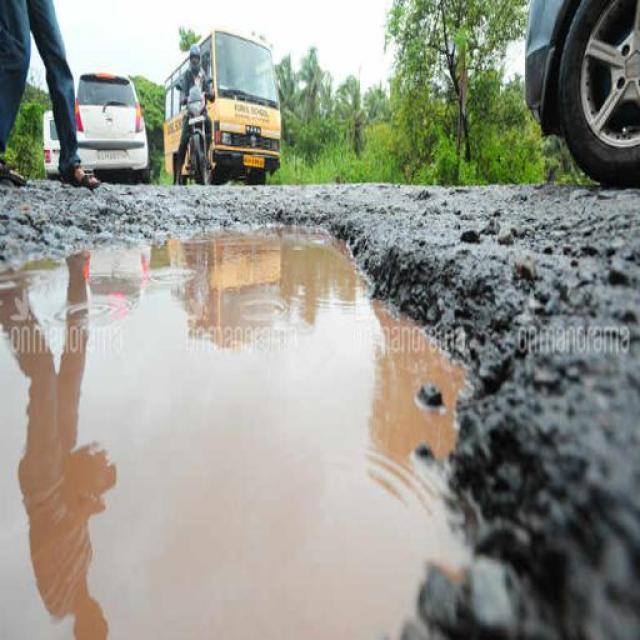puddle: (21, 258, 408, 638)
